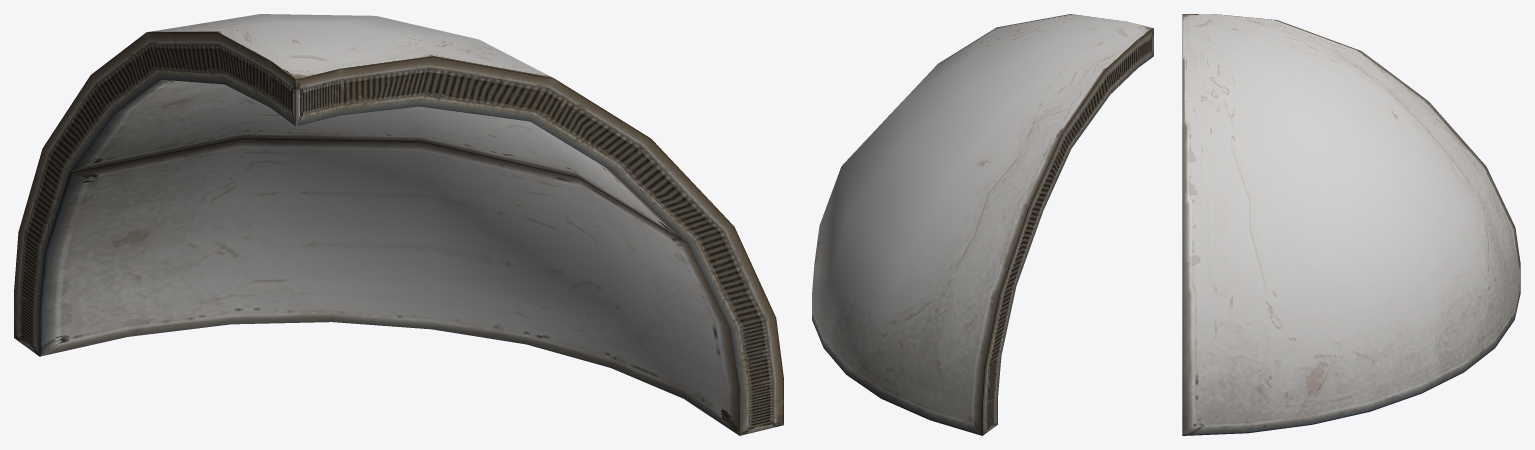
The model's file is scifi_wall_top2_curve3_1.FBX.
3 views of the same model, side by side, from view 1: azimuth 30°, elevation 25°; view 2: azimuth 150°, elevation 25°; view 3: azimuth 270°, elevation 25° (orthographic). The views are drawn at different scales.
Parts seen in each view (by area): view 1: Plane346; view 2: Plane346; view 3: Plane346.
Part boxes in pixels (x1,y1,x2,y2): Plane346: (14, 14, 783, 435); Plane346: (812, 14, 1153, 435); Plane346: (1182, 14, 1520, 435).
Size of the model in its own units: 279 by 254 by 279.
